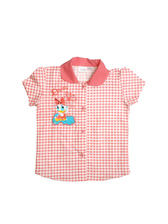clothoes: (19, 56, 149, 184)
